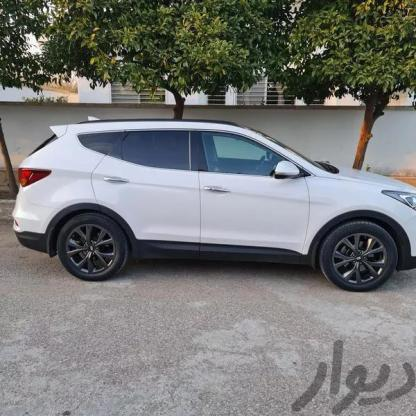Car: (0, 108, 416, 305)
